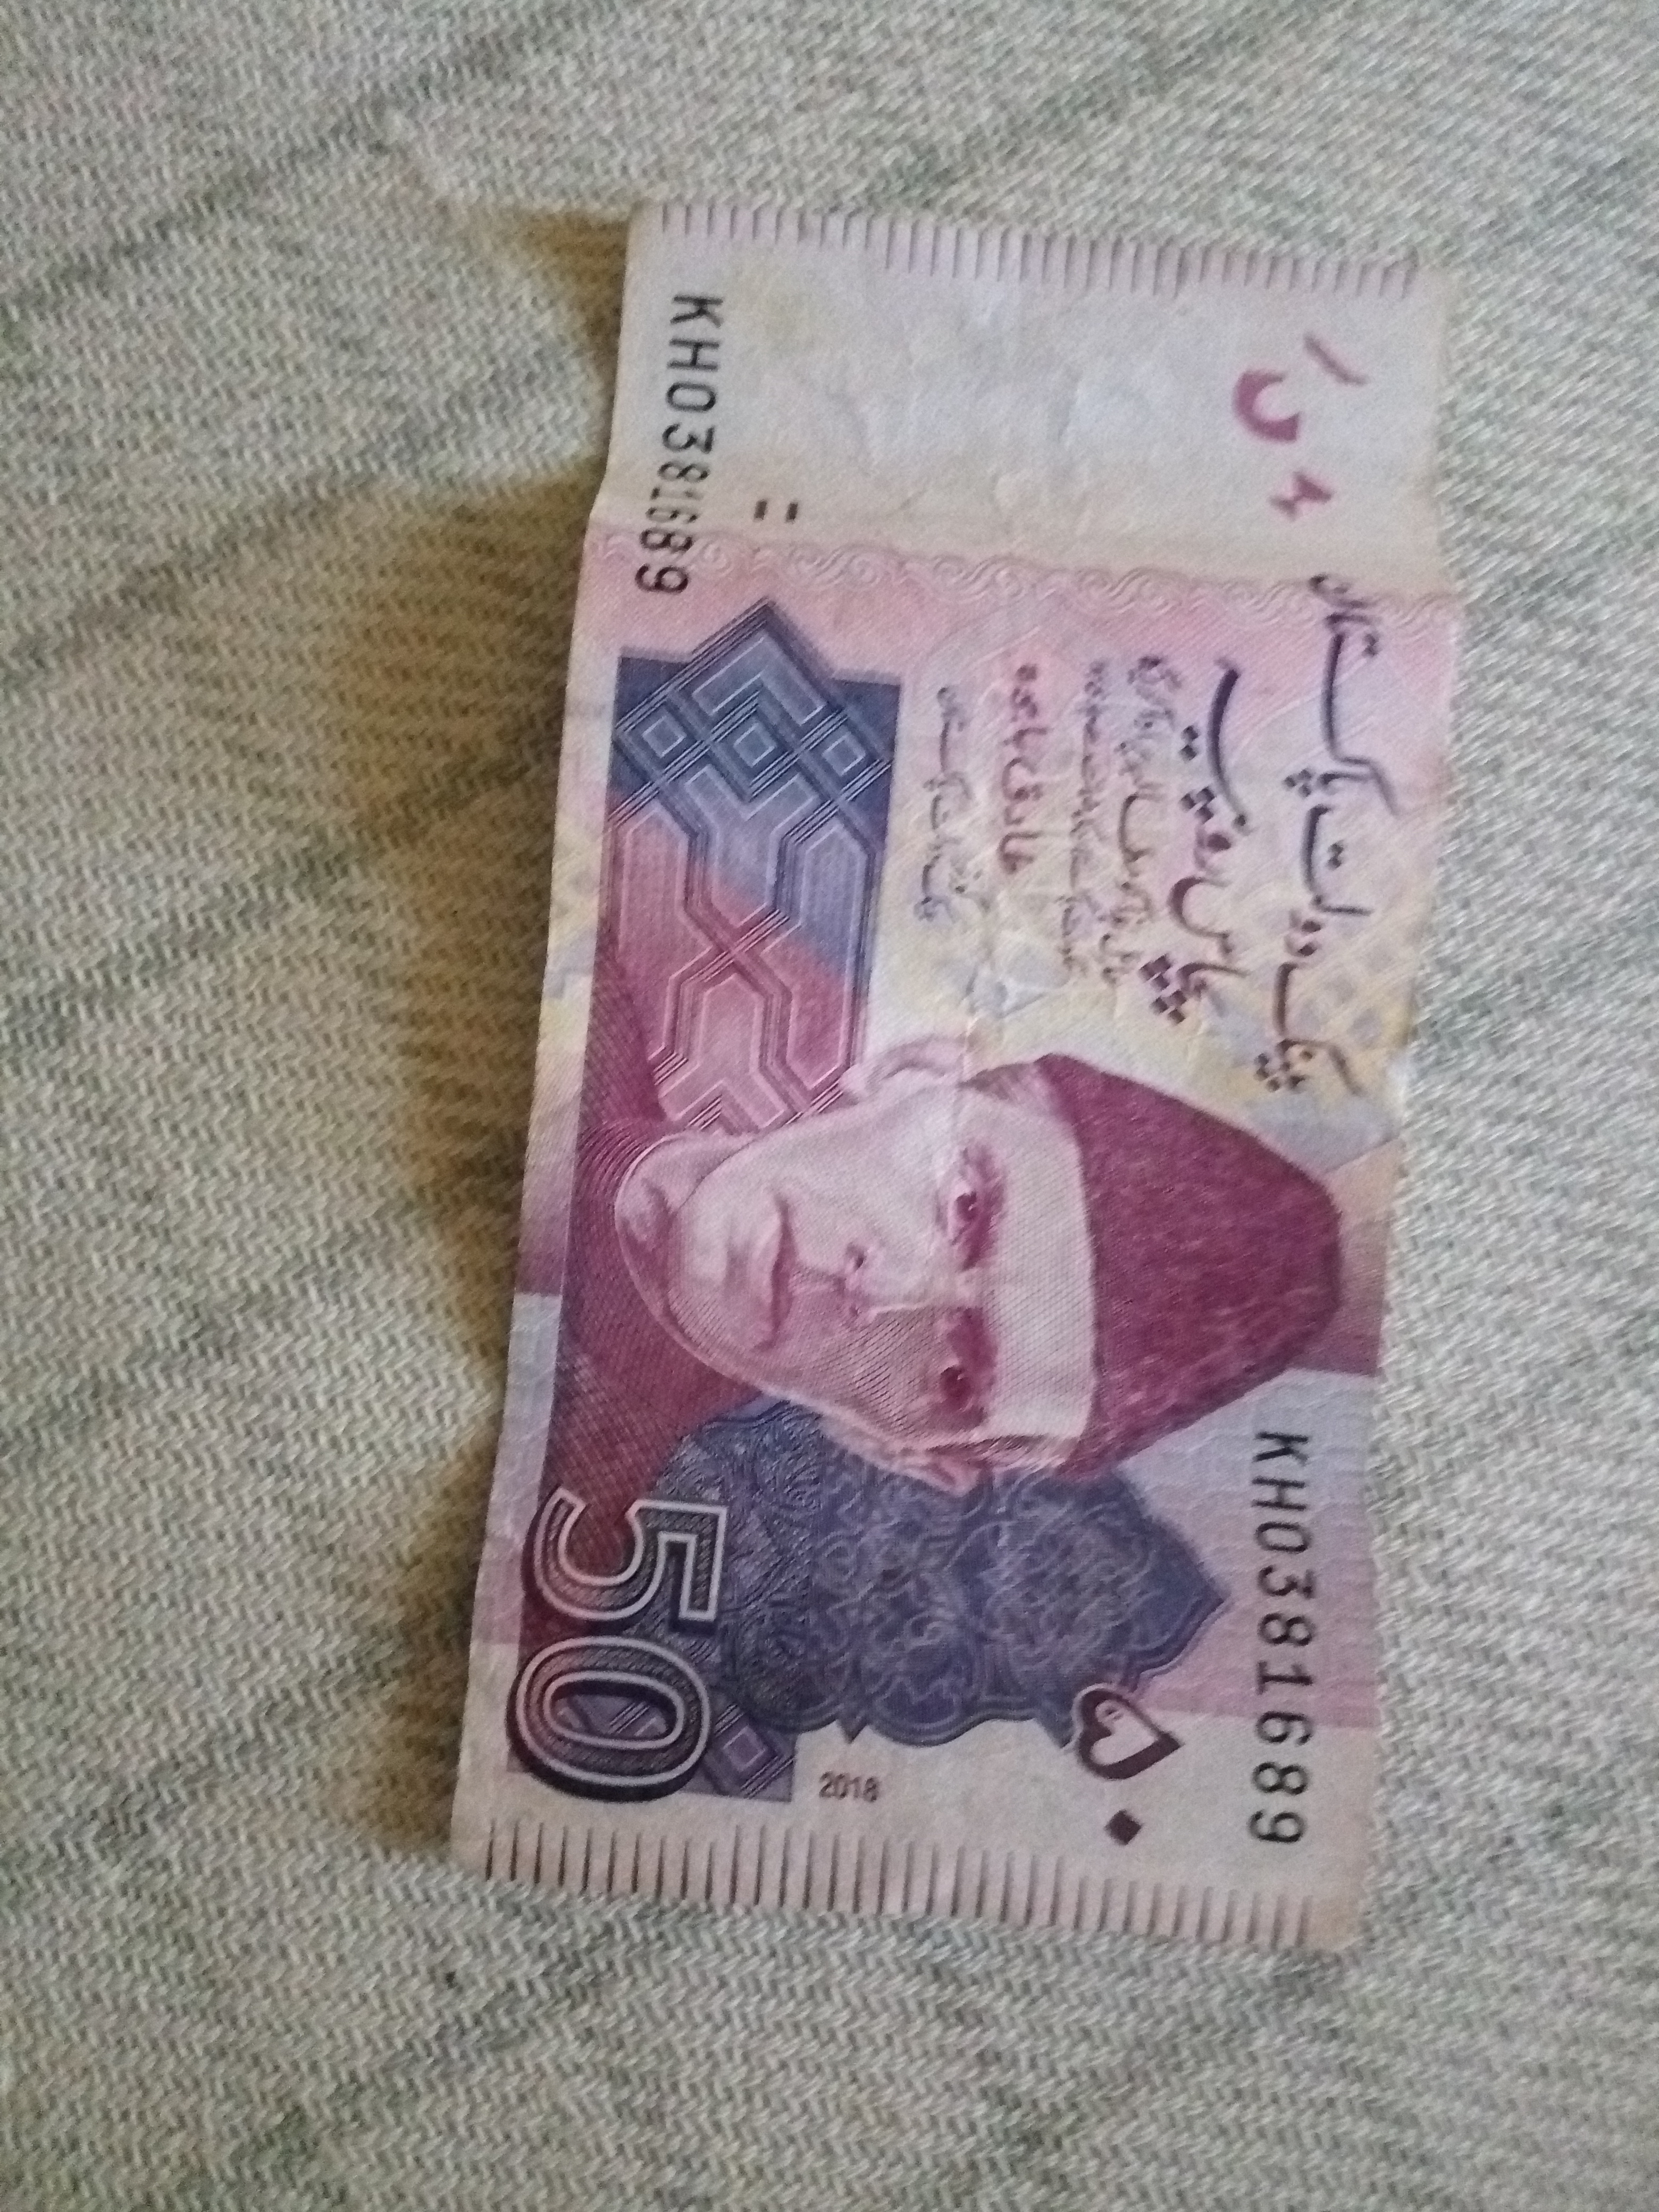50 rupee: (486, 136, 1488, 1982)
